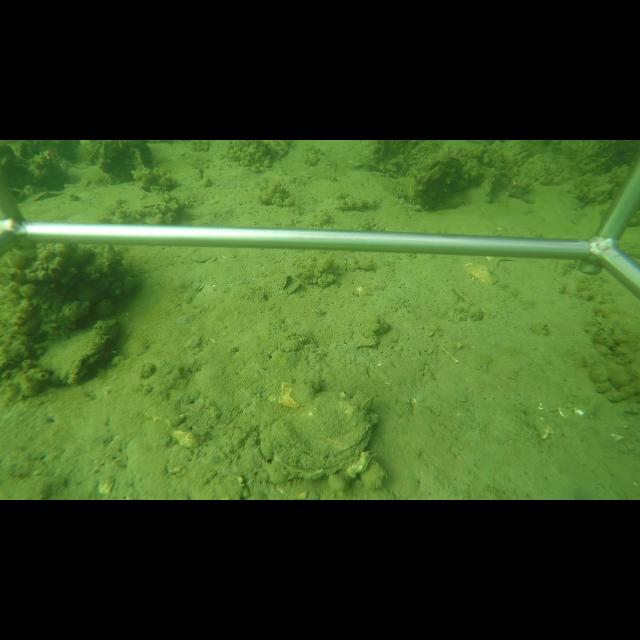Oyster-Closed: (258, 388, 376, 481), (409, 155, 464, 211), (359, 460, 386, 490), (482, 175, 496, 202)
Oyster-Open: (39, 319, 124, 386)
